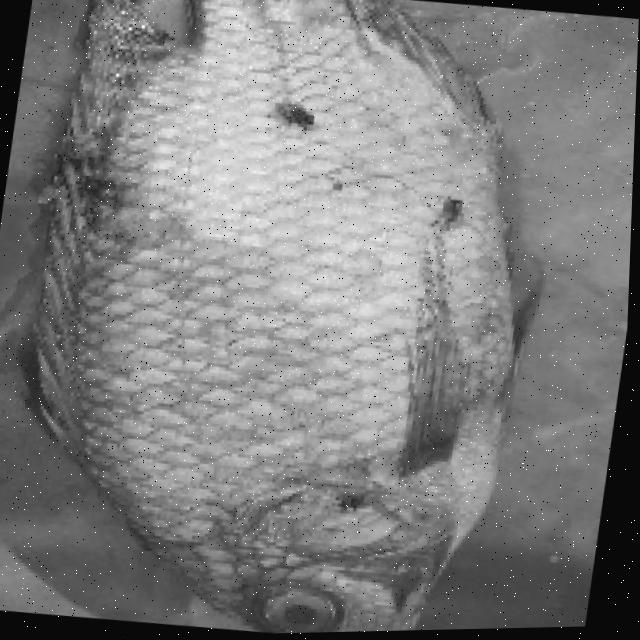Non-Fresh: (28, 44, 538, 581), (255, 564, 363, 635)
